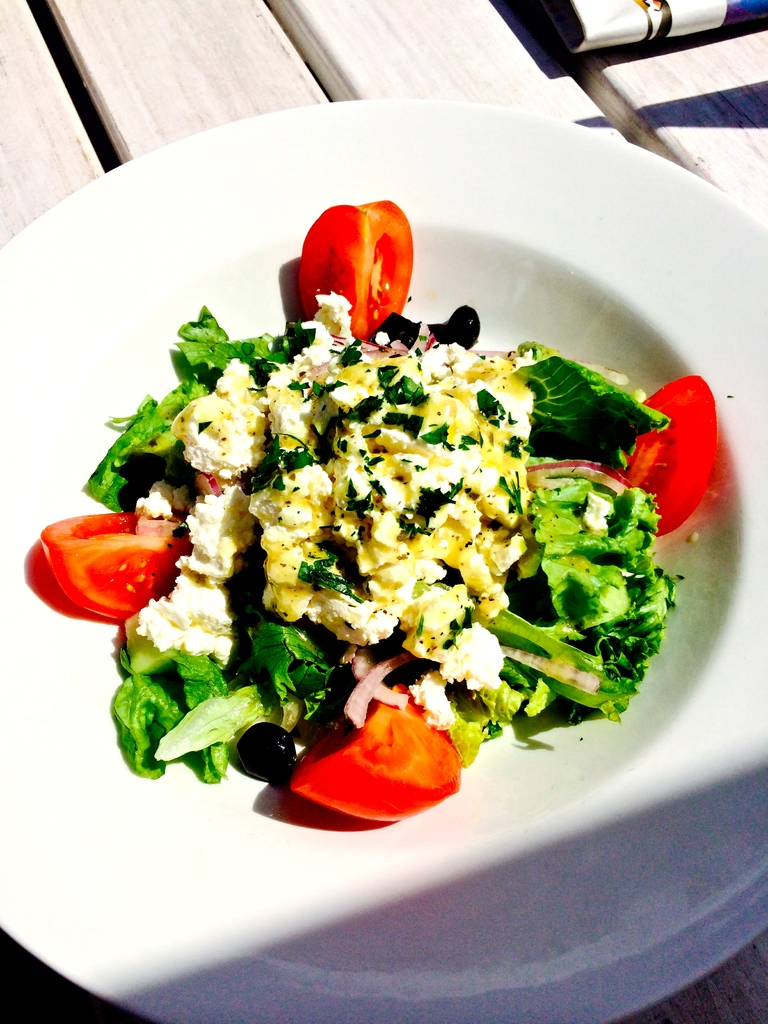Tomato: (274, 700, 464, 824), (42, 503, 188, 620), (624, 368, 712, 560), (295, 189, 409, 337)
